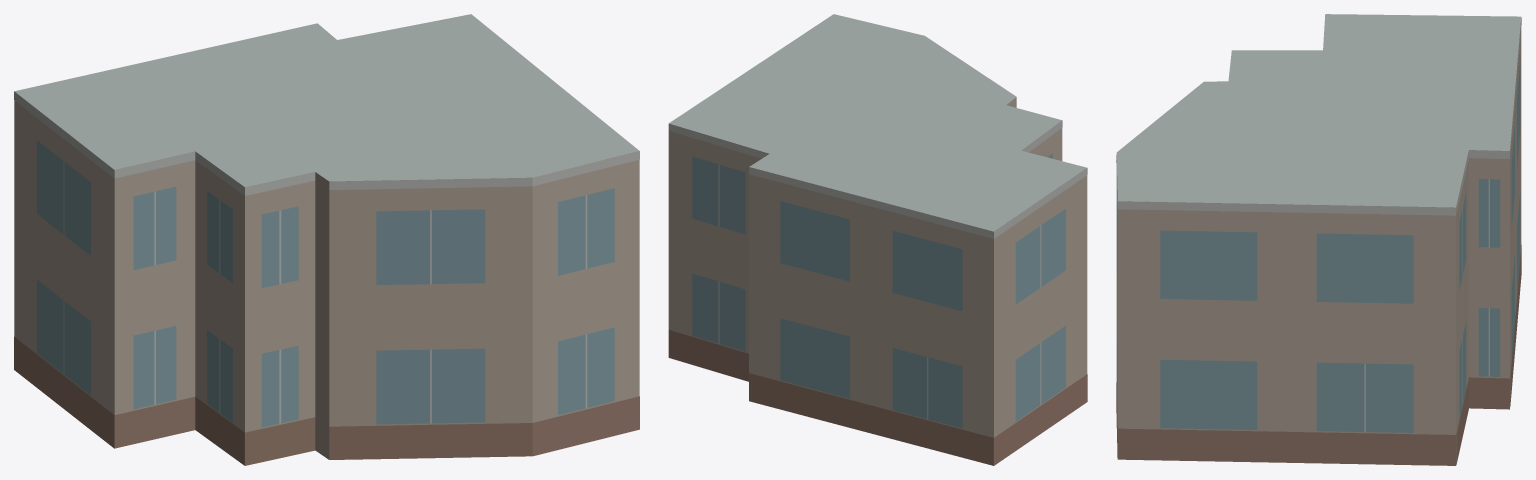
Rendered from survey-upis-32958284.glb.
The picture shows the model from 3 angles, left to right: view 1: azimuth 30°, elevation 25°; view 2: azimuth 150°, elevation 25°; view 3: azimuth 270°, elevation 25°; orthographic projection. The views are drawn at different scales.
Visible parts, largest first — view 1: survey-upis-32958284.tmp; view 2: survey-upis-32958284.tmp; view 3: survey-upis-32958284.tmp.
Part boxes in pixels (box(x1,y1,x2,y2)): survey-upis-32958284.tmp: box(14, 14, 639, 465); survey-upis-32958284.tmp: box(668, 14, 1087, 465); survey-upis-32958284.tmp: box(1116, 14, 1521, 465).
Size of the model in its own units: 12.54 by 7.8 by 11.08.
